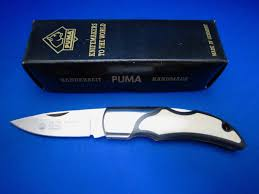knife: (4, 100, 249, 154)
